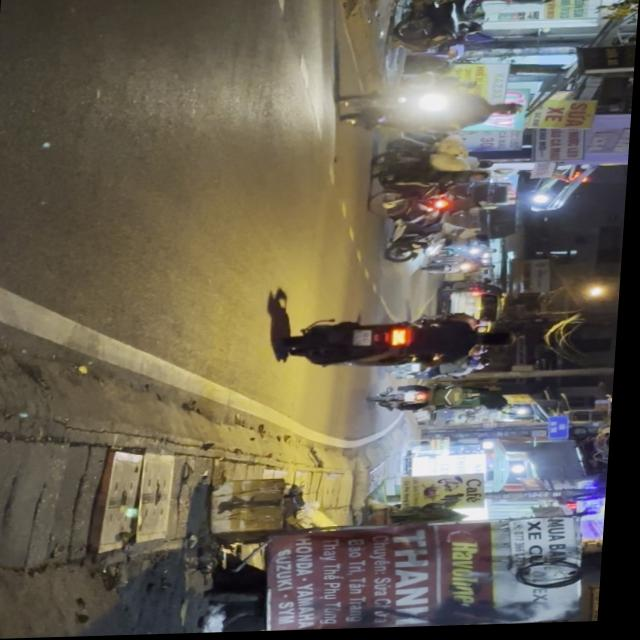licenseplate: (287, 311, 531, 380)
motorcyclist: (484, 331, 521, 350)
nohelmet: (358, 331, 378, 348)
